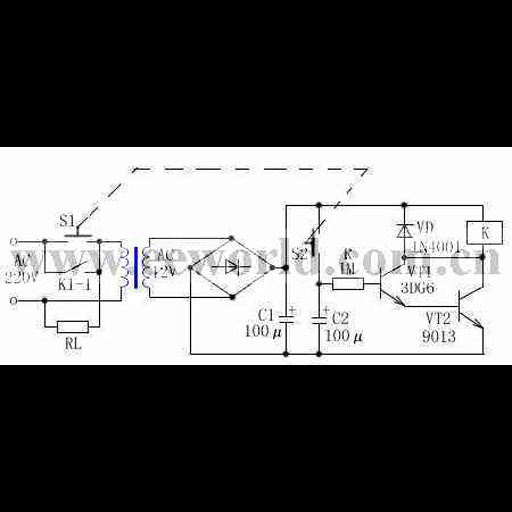firstpolarcapacitor: (276, 306, 301, 326), (309, 304, 330, 326)
firstresistance: (329, 274, 372, 294), (52, 318, 92, 336)
npn: (453, 285, 490, 330), (376, 262, 408, 312)
seconddiode: (393, 220, 416, 239)
transformer: (118, 241, 153, 295)
